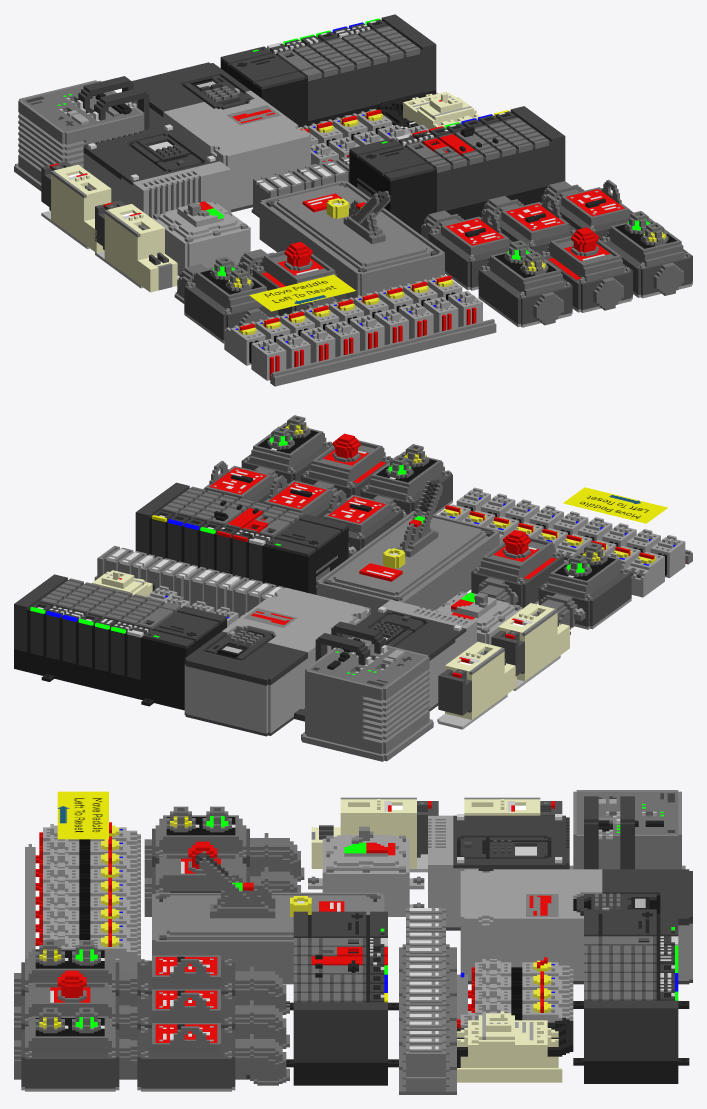
The model's file is StageLeftInstruction.glb.
The picture shows the model from 3 angles, top to bottom: view 1: azimuth 30°, elevation 25°; view 2: azimuth 150°, elevation 25°; view 3: azimuth 270°, elevation 25°; orthographic projection. The views are drawn at different scales.
Visible parts, largest first — view 1: FullScene-11, FullScene-12, FullScene-26, FullScene-10, FullScene-5, FullScene-8, ObjObject.004, FullScene-9, FullScene-6, ObjObject.003, ObjObject.002, FullScene-23 (+14 smaller); view 2: FullScene-12, FullScene-10, FullScene-11, FullScene-8, FullScene-26, FullScene-5, ObjObject, FullScene-7, ObjObject.001, ObjObject.002, ObjObject.004, FullScene-9 (+17 smaller); view 3: FullScene-10, FullScene-11, FullScene-12, FullScene-26, FullScene-5, FullScene-27, FullScene-23, FullScene-14, FullScene-8, FullScene-22, FullScene-13, ObjObject.003 (+23 smaller).
Part boxes in pixels (box(x1,y1,x2,y2)): FullScene-11: box(349, 106, 565, 234); FullScene-12: box(220, 14, 436, 127); FullScene-26: box(259, 180, 444, 299); FullScene-10: box(131, 62, 310, 212); FullScene-5: box(83, 124, 230, 217); FullScene-8: box(14, 80, 144, 191); ObjObject.004: box(224, 311, 348, 386); FullScene-9: box(478, 240, 572, 327); FullScene-6: box(373, 275, 496, 350); ObjObject.003: box(299, 293, 422, 368); ObjObject.002: box(95, 200, 177, 292); FullScene-23: box(600, 211, 692, 298); FullScene-12: box(14, 574, 226, 710); FullScene-10: box(184, 587, 367, 736); FullScene-11: box(135, 482, 348, 594); FullScene-8: box(301, 637, 433, 761); FullScene-26: box(316, 479, 499, 613); FullScene-5: box(343, 599, 476, 711); ObjObject: box(538, 542, 631, 629); FullScene-7: box(437, 641, 516, 729); ObjObject.001: box(471, 530, 564, 608); ObjObject.002: box(491, 603, 569, 690); ObjObject.004: box(591, 523, 692, 597); FullScene-9: box(360, 444, 452, 517); FullScene-10: box(460, 869, 692, 984); FullScene-11: box(286, 911, 398, 1085); FullScene-12: box(573, 910, 689, 1083); FullScene-26: box(152, 851, 384, 984); FullScene-5: box(428, 814, 569, 930); FullScene-27: box(457, 999, 573, 1082); FullScene-23: box(14, 1007, 130, 1091); FullScene-14: box(130, 1023, 246, 1091); FullScene-8: box(569, 790, 685, 869); FullScene-22: box(308, 826, 424, 916); FullScene-13: box(457, 957, 573, 1019); ObjObject.003: box(25, 863, 140, 932).
Bounding box in the file's own units: 10.96 × 2.26 × 13.23.
2 materials, 2 textured.
